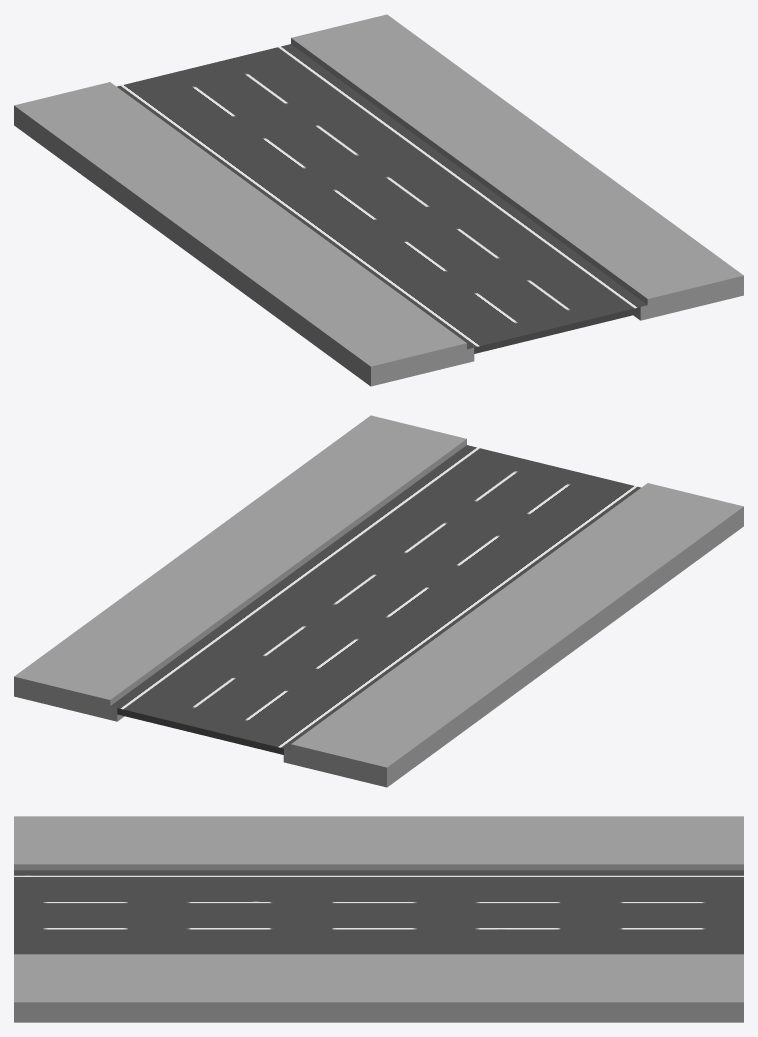
The model's file is tile_road_3.fbx.
3 views of the same model, one above another, from view 1: azimuth 30°, elevation 25°; view 2: azimuth 150°, elevation 25°; view 3: azimuth 270°, elevation 25° (orthographic). The views are drawn at different scales.
Parts seen in each view (by area): view 1: road_3, sidewalk_L, sidewalk_R; view 2: road_3, sidewalk_L, sidewalk_R; view 3: road_3, sidewalk_R, sidewalk_L.
Boxes of the visible parts, x1,y1,x2,y2 form: road_3: (117, 46, 640, 353); sidewalk_L: (14, 82, 474, 386); sidewalk_R: (284, 14, 743, 320); road_3: (117, 447, 640, 754); sidewalk_L: (283, 483, 743, 787); sidewalk_R: (14, 415, 473, 721); road_3: (14, 874, 743, 954); sidewalk_R: (14, 954, 743, 1022); sidewalk_L: (14, 816, 743, 873).
Bounding box in the file's own units: 2086 × 107 × 3455.
3 materials, 3 textured.
